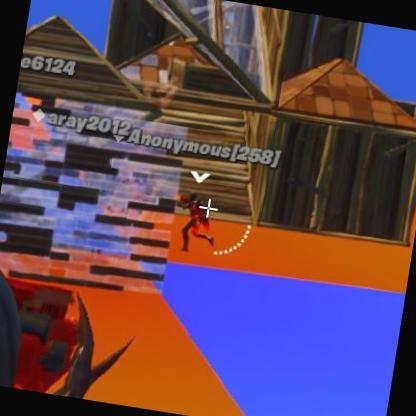person: (174, 191, 216, 252)
